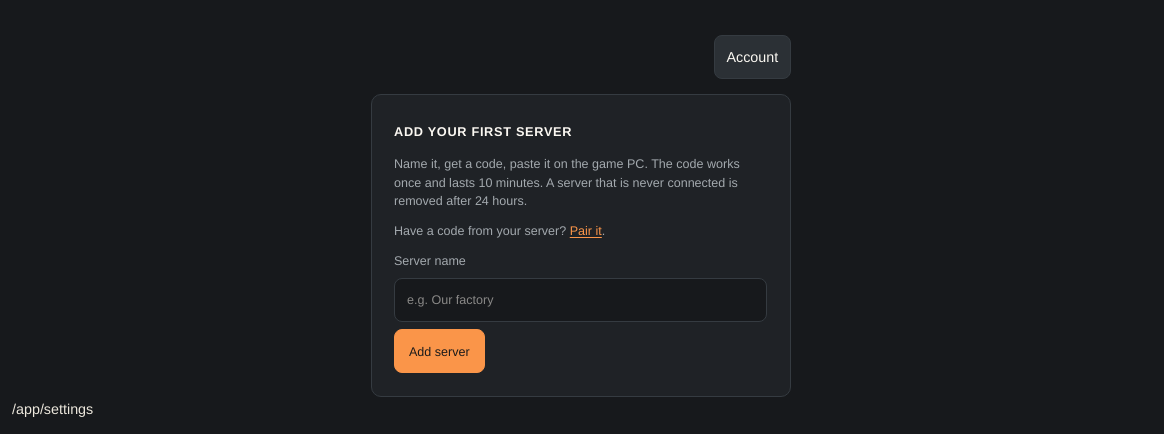
Add your server › is the whole screen for a player with no server yet, and selects the new one
The image size is (1164, 434).
Expected: the heading "Add your first server" is shown, [394,119,572,139]
Expected: the text "Name it, get a code, paste it on the game PC" is shown, [394,155,740,190]
Type "My new world" into the field labelled "Server name" at (580, 300), box [394,278,767,322]
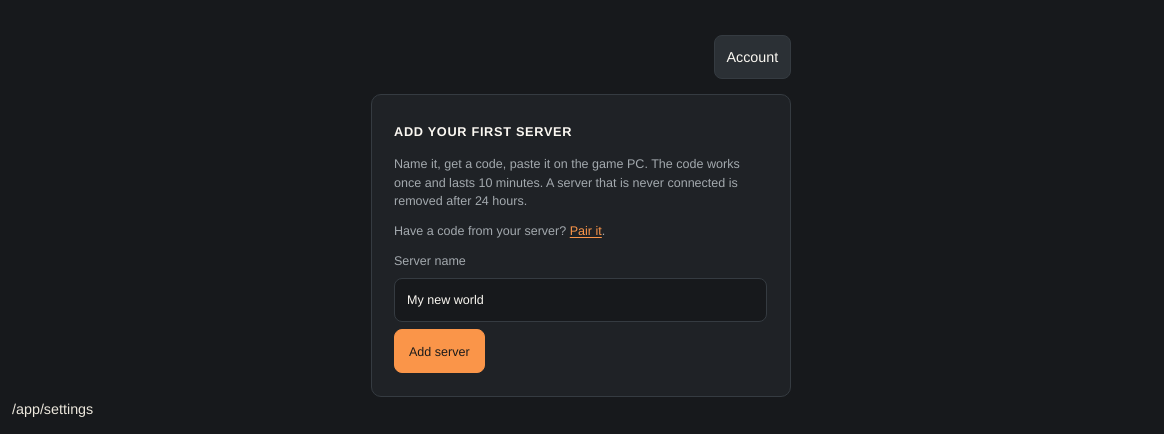
Click the button "Add server" at (439, 351), box [394,329,485,373]
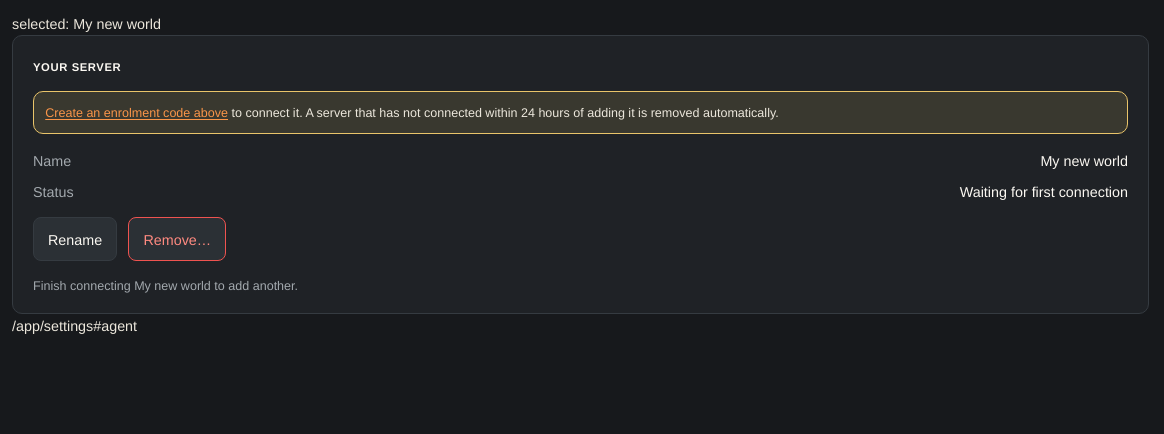
Now the text "selected: My new world" is shown, box [12,14,161,32]
